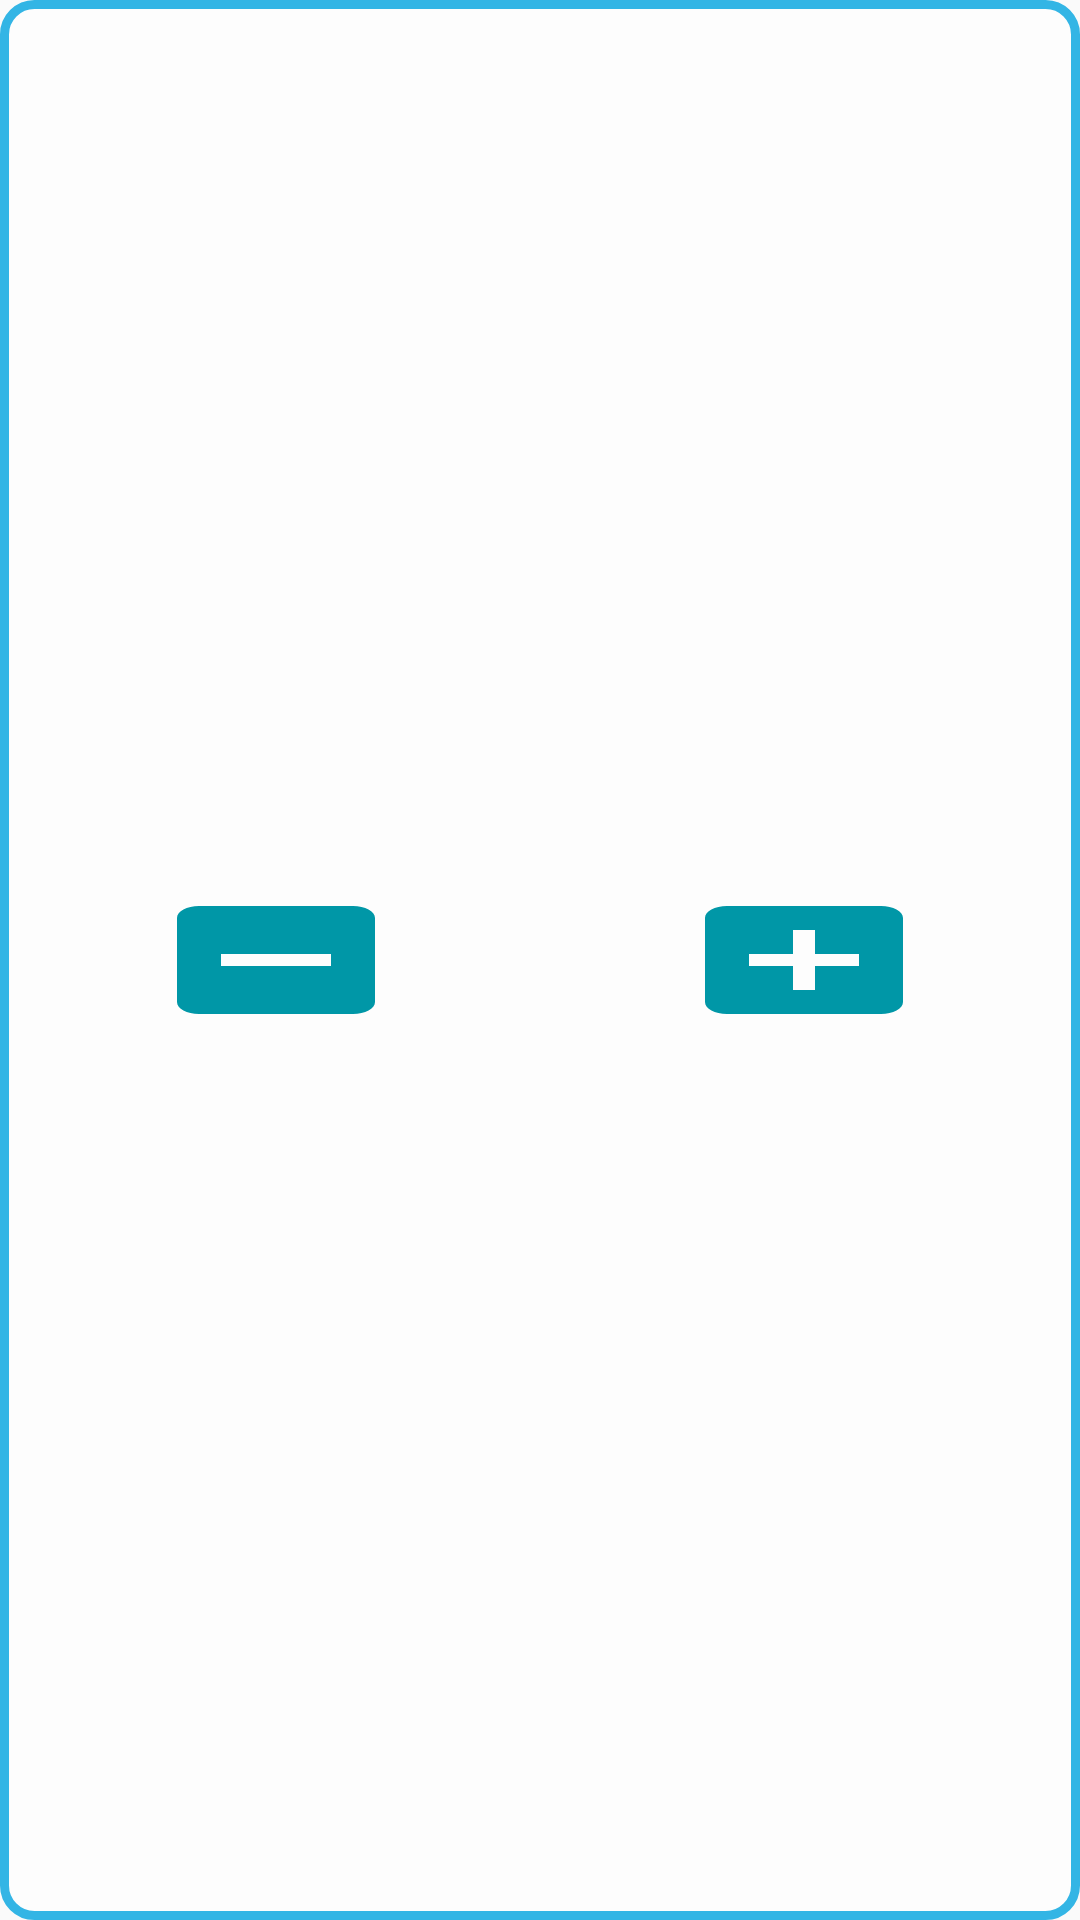

Named icons in this screenshot (1080x1920) and their centers, point (x, y):
add box: point (804, 960)
indeterminate check box: point (276, 960)
